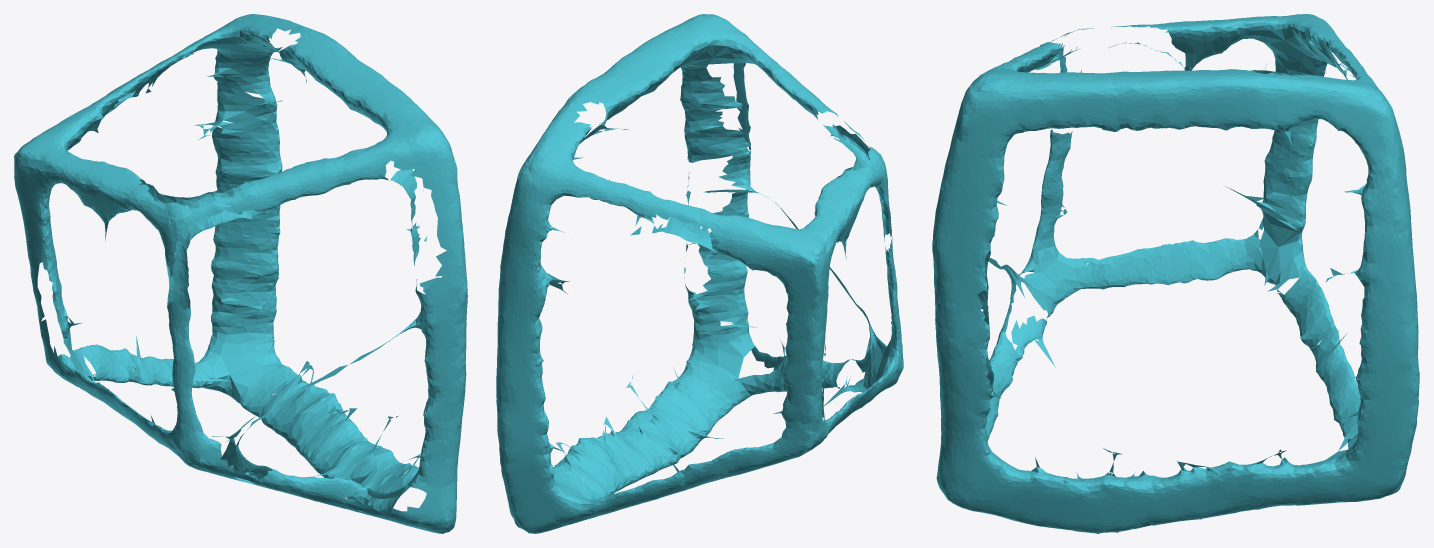
3 renders of one model, left to right at view 1: azimuth 30°, elevation 25°; view 2: azimuth 150°, elevation 25°; view 3: azimuth 270°, elevation 25°, orthographic. The views are drawn at different scales.
Visible parts, largest first — view 1: Renderer Node; view 2: Renderer Node; view 3: Renderer Node.
Boxes of the visible parts, x1,y1,x2,y2 form: Renderer Node: [14, 14, 467, 533]; Renderer Node: [496, 14, 903, 533]; Renderer Node: [932, 14, 1419, 533].
Size of the model in its own units: 0.4908 by 0.682 by 0.6569.
1 material, 1 textured.
